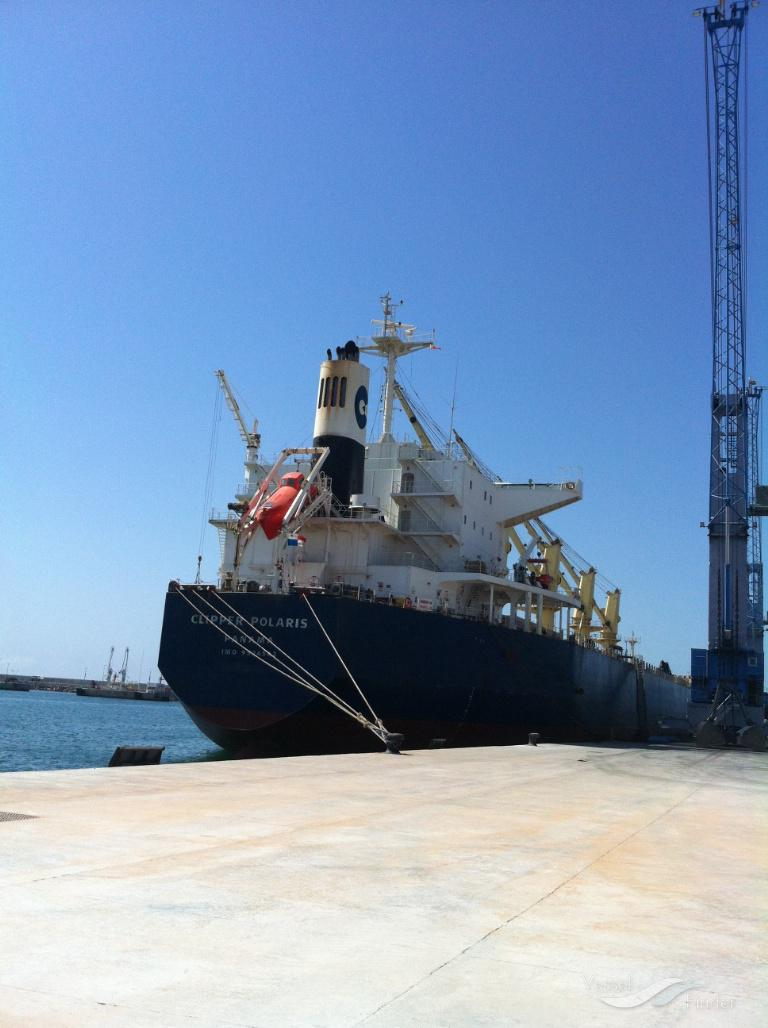OCR: (177, 594, 322, 662)
